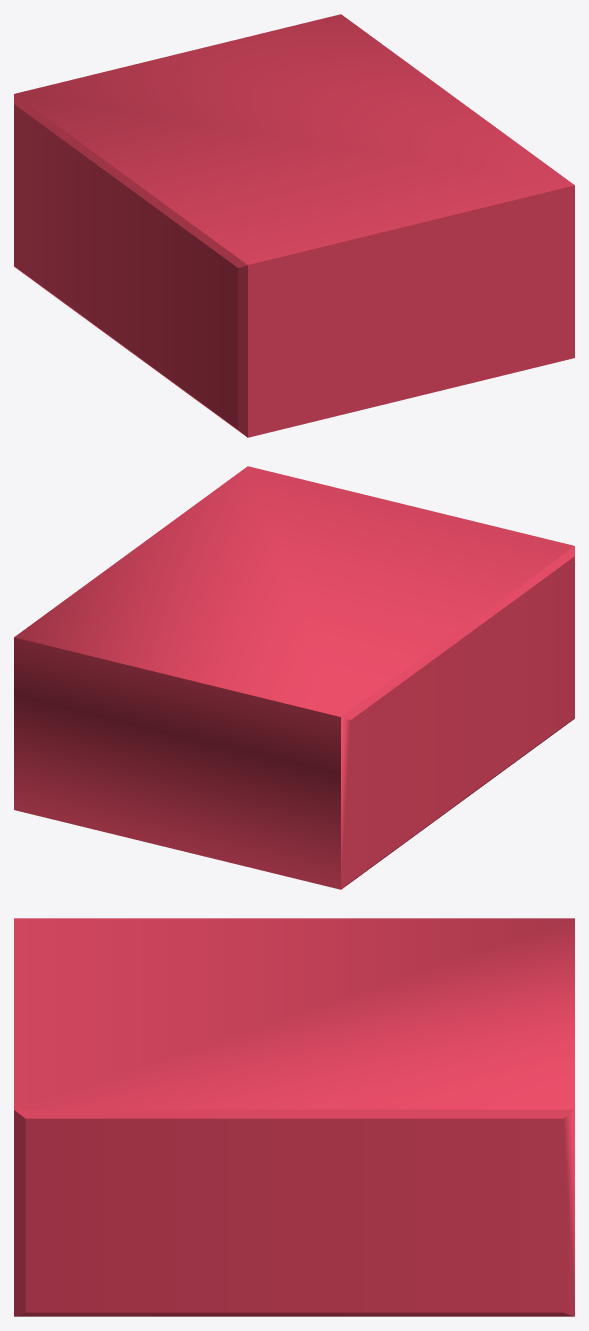
File: Itr_Sofa_Inside_01.FBX
3 views of the same model, one above another, from view 1: azimuth 30°, elevation 25°; view 2: azimuth 150°, elevation 25°; view 3: azimuth 270°, elevation 25° (orthographic). The views are drawn at different scales.
Parts seen in each view (by area): view 1: Itr_Sofa_Inside_01; view 2: Itr_Sofa_Inside_01; view 3: Itr_Sofa_Inside_01.
Boxes of the visible parts, x1,y1,x2,y2 form: Itr_Sofa_Inside_01: (14, 14, 574, 437); Itr_Sofa_Inside_01: (14, 466, 574, 889); Itr_Sofa_Inside_01: (14, 918, 574, 1316).
Bounding box in the file's own units: 25.04 × 12.29 × 30.18.
